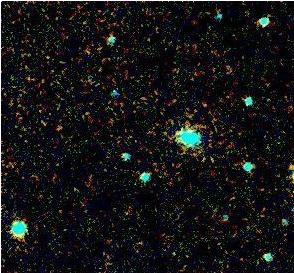star: (216, 54, 246, 84)
